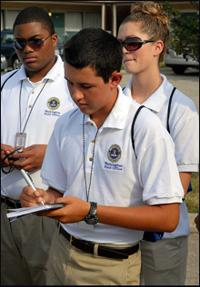person: (20, 28, 183, 286)
